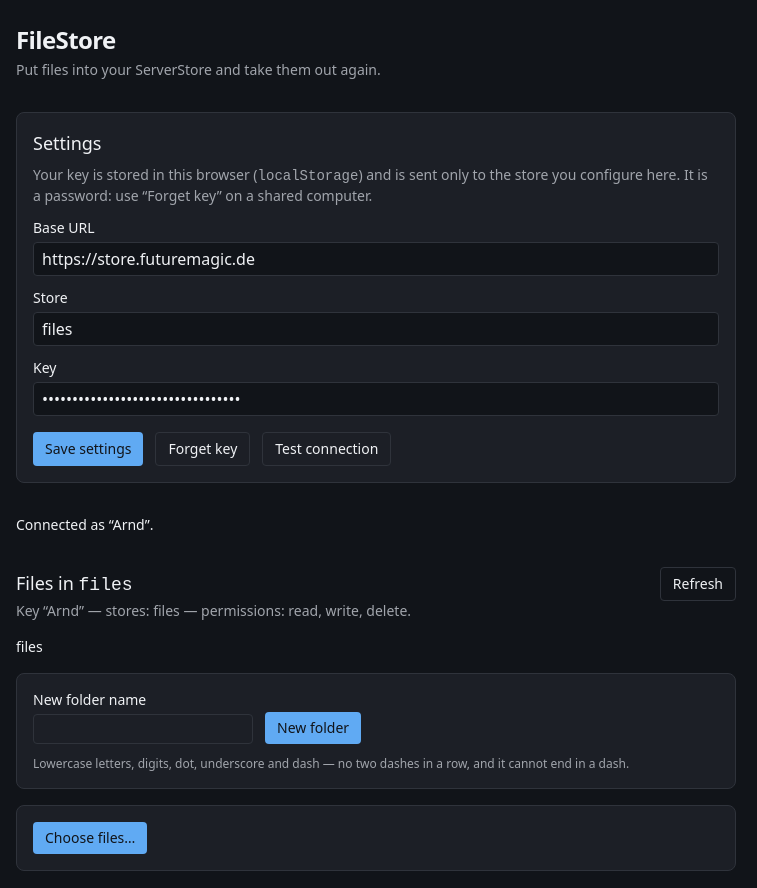
Scenario: Refresh re-reads the listing, so a change made by another program becomes visible
Check: the button "Choose files…" is shown, box [33, 822, 147, 854]
Click the button "Refresh" at (698, 584), box [660, 567, 736, 601]
(page scrolled)
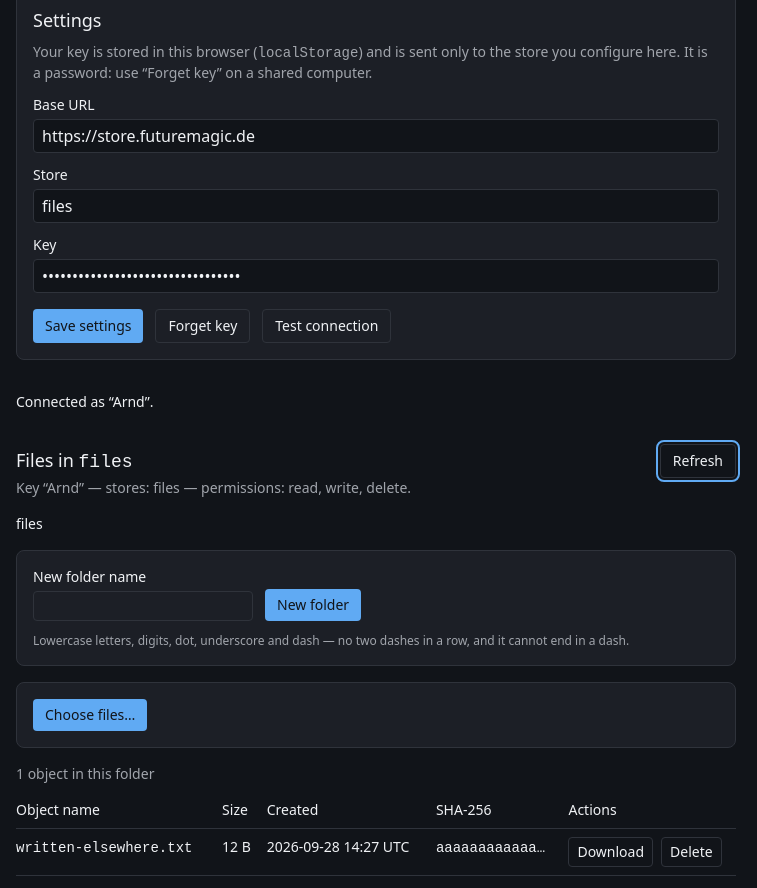
Check: the text "written-elsewhere.txt" is shown, box [16, 840, 192, 856]
